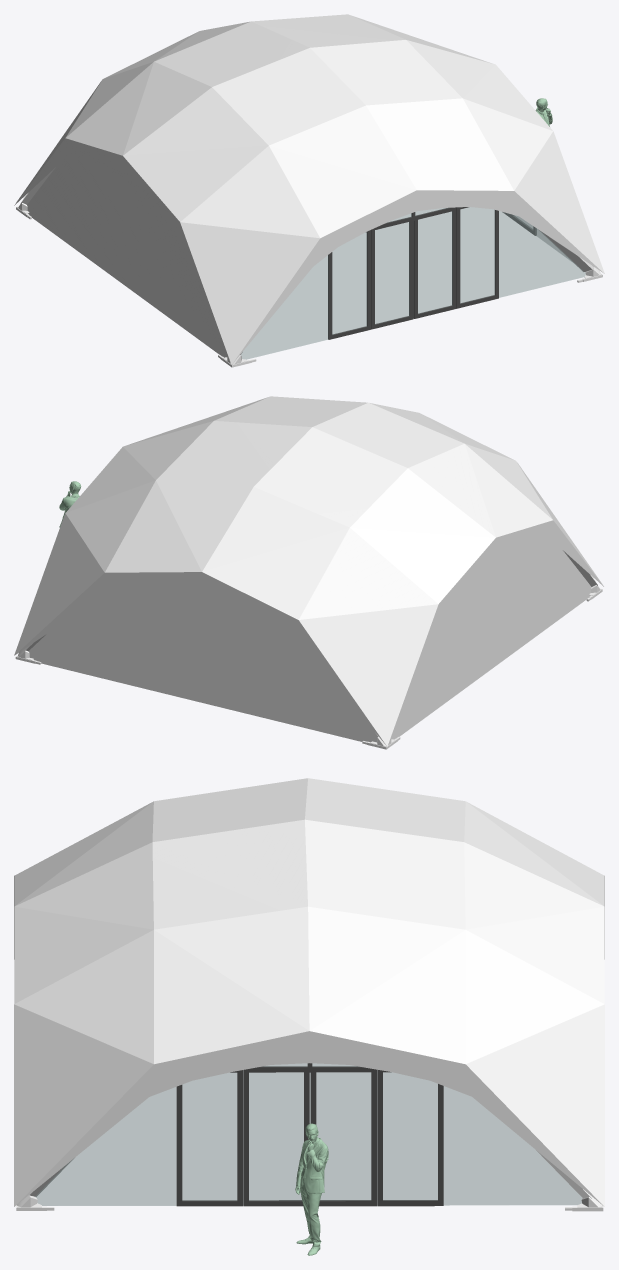
Rendered from eco64.glb.
3 renders of one model, top to bottom at view 1: azimuth 30°, elevation 25°; view 2: azimuth 150°, elevation 25°; view 3: azimuth 270°, elevation 25°, orthographic. The views are drawn at different scales.
Visible parts, largest first — view 1: tent, windows-2, sidewall-1, logo-area-3, frame-2, logo-area-2, connections; view 2: tent, sidewall-2, sidewall-1, logo-area-4, logo-area-1, connections; view 3: tent, windows-1, logo-area-2, logo-area-1, frame-1, human, connections.
Part boxes in pixels (x1=…): tent: x1=14, y1=14, x2=604, y2=362; windows-2: x1=241, y1=207, x2=585, y2=359; sidewall-1: x1=27, y1=160, x2=227, y2=357; logo-area-3: x1=180, y1=222, x2=319, y2=364; frame-2: x1=328, y1=207, x2=498, y2=339; logo-area-2: x1=514, y1=131, x2=604, y2=273; connections: x1=16, y1=203, x2=602, y2=367; tent: x1=14, y1=396, x2=603, y2=745; sidewall-2: x1=28, y1=588, x2=377, y2=742; sidewall-1: x1=391, y1=542, x2=591, y2=739; logo-area-4: x1=299, y1=604, x2=438, y2=746; logo-area-1: x1=14, y1=513, x2=104, y2=655; connections: x1=15, y1=585, x2=602, y2=749; tent: x1=14, y1=778, x2=604, y2=1206; windows-1: x1=35, y1=1063, x2=582, y2=1205; logo-area-2: x1=14, y1=1004, x2=153, y2=1206; logo-area-1: x1=466, y1=1004, x2=604, y2=1206; frame-1: x1=176, y1=1063, x2=443, y2=1206; human: x1=295, y1=1123, x2=328, y2=1255; connections: x1=16, y1=1195, x2=603, y2=1211.
Bounding box in the file's own units: 95.87 × 41.4 × 82.37.
